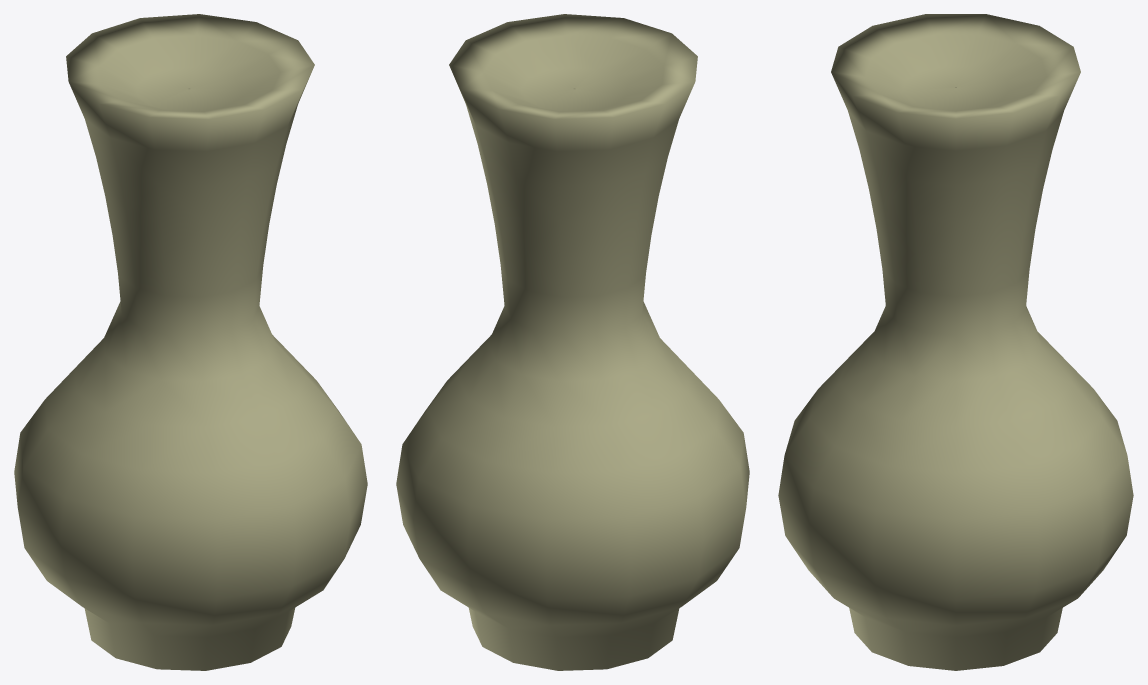
The model's file is florero.fbx.
3 renders of one model, left to right at view 1: azimuth 30°, elevation 25°; view 2: azimuth 150°, elevation 25°; view 3: azimuth 270°, elevation 25°, orthographic.
Visible parts, largest first — view 1: nurbsToPoly2; view 2: nurbsToPoly2; view 3: nurbsToPoly2.
Boxes of the visible parts, x1,y1,x2,y2 form: nurbsToPoly2: [14, 14, 367, 670]; nurbsToPoly2: [396, 14, 749, 670]; nurbsToPoly2: [778, 14, 1133, 670].
Bounding box in the file's own units: 15.05 × 27.12 × 15.16.
